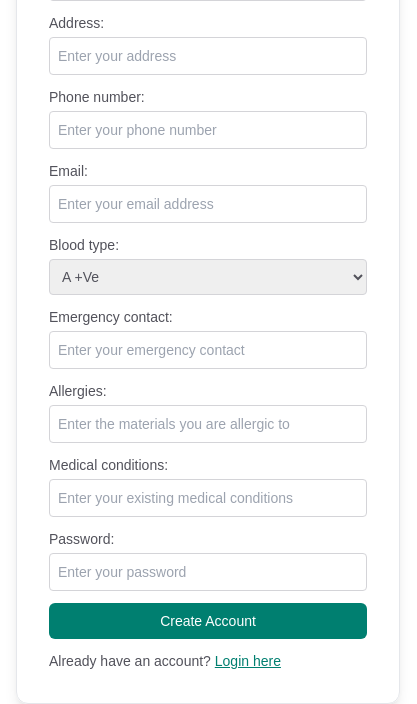
Test: Patient login › rejects invalid patient IDs without making API requests
The image size is (417, 704).
(page scrolled)
Click the text "Login here".
click(248, 661)  # box [215, 653, 281, 669]
(page scrolled)
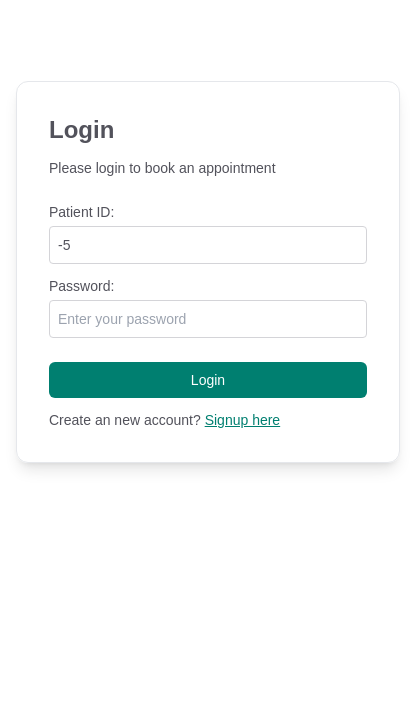
Type "password123" into the password field with placeholder "Enter your password".
click(208, 319); type("password123")  # box [49, 300, 367, 338]
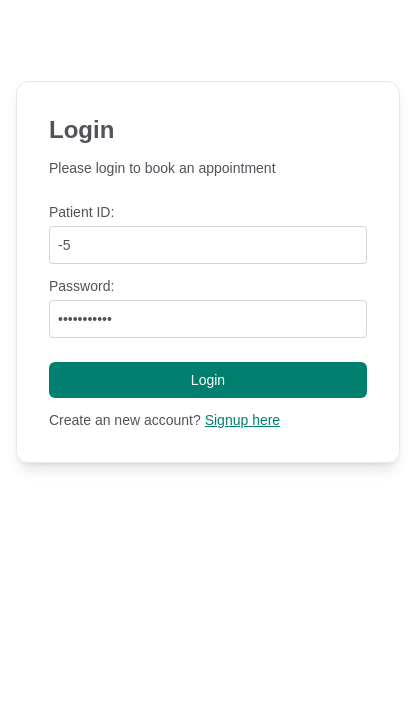
Click the button "Login".
click(208, 380)  # box [49, 362, 367, 398]
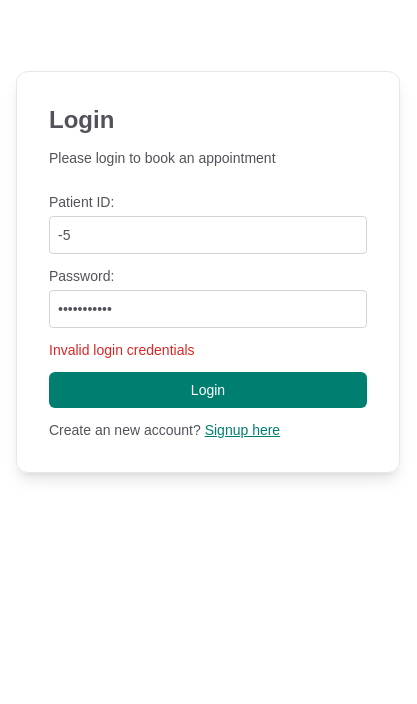
expect the text "Invalid login credentials" is shown: met, box [49, 342, 194, 358]
